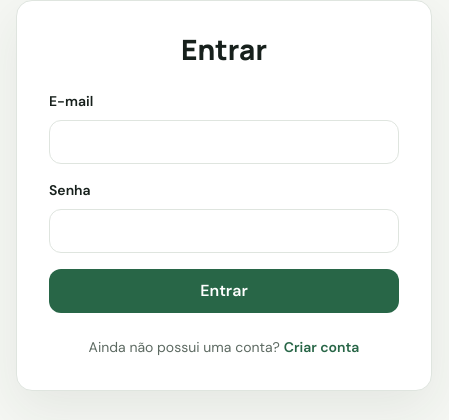
Scenario: LoginPage — envio › exibe feedback de loading e desabilita o botão durante o envio
Type "john@example.com" into the field labelled "E-mail" at (224, 142), box [49,120,399,164]
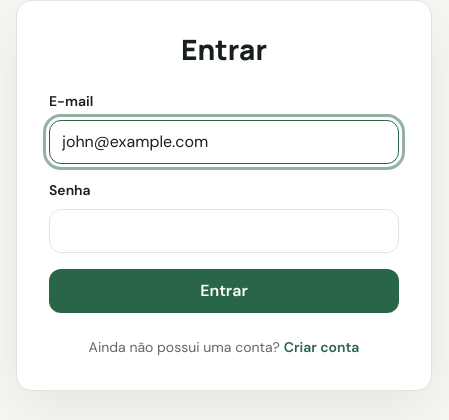
Type "12345678" into the password field labelled "Senha" at (224, 231), box [49,209,399,253]
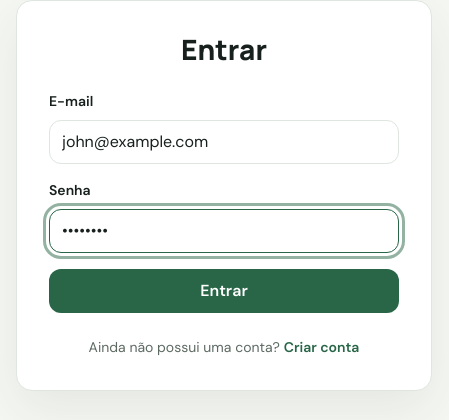
Click the button "Entrar" at (224, 291), box [49,269,399,313]
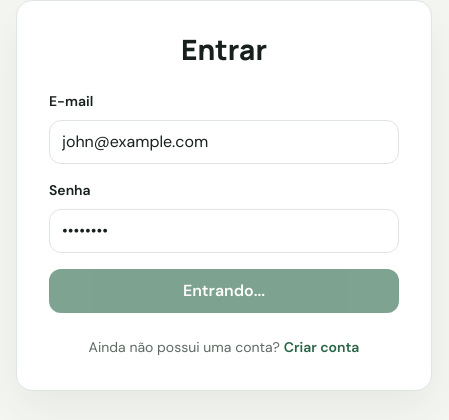
Now the button "Entrando..." is disabled, box [49,269,399,313]
